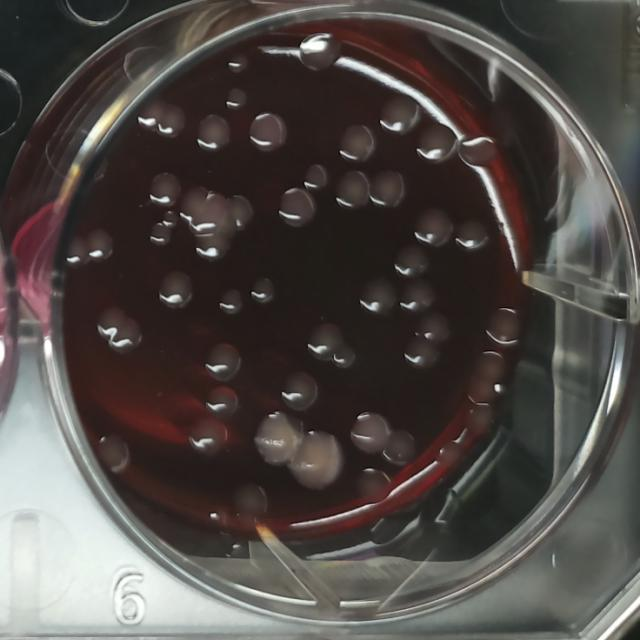Bacillus: (284, 426, 345, 493), (250, 409, 308, 467)
Pseudoalteromonas: (246, 109, 291, 157), (276, 186, 318, 229)
Vibrio: (186, 413, 230, 460), (202, 338, 245, 385), (153, 268, 196, 313), (109, 315, 148, 355), (204, 386, 241, 425), (94, 304, 124, 339)
